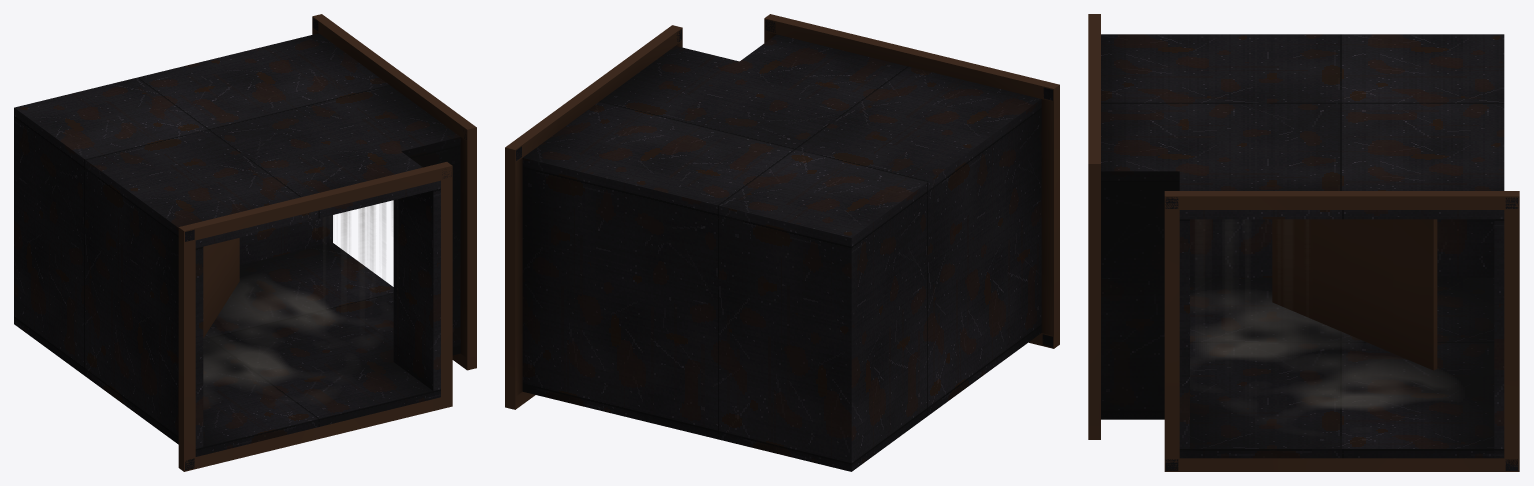
File: duct_bend.glb
3 views of the same model, side by side, from view 1: azimuth 30°, elevation 25°; view 2: azimuth 150°, elevation 25°; view 3: azimuth 270°, elevation 25° (orthographic). The views are drawn at different scales.
Parts seen in each view (by area): view 1: body, decals; view 2: body; view 3: body, decals.
Part boxes in pixels (<box>): body: <box>14,14,476,471</box>; decals: <box>203,200,397,387</box>; body: <box>505,14,1059,471</box>; body: <box>1088,14,1519,471</box>; decals: <box>1193,219,1450,409</box>.
Size of what is drawn, in the model's own units: 1.7 by 1.2 by 1.7.
5 materials, 4 textured.
